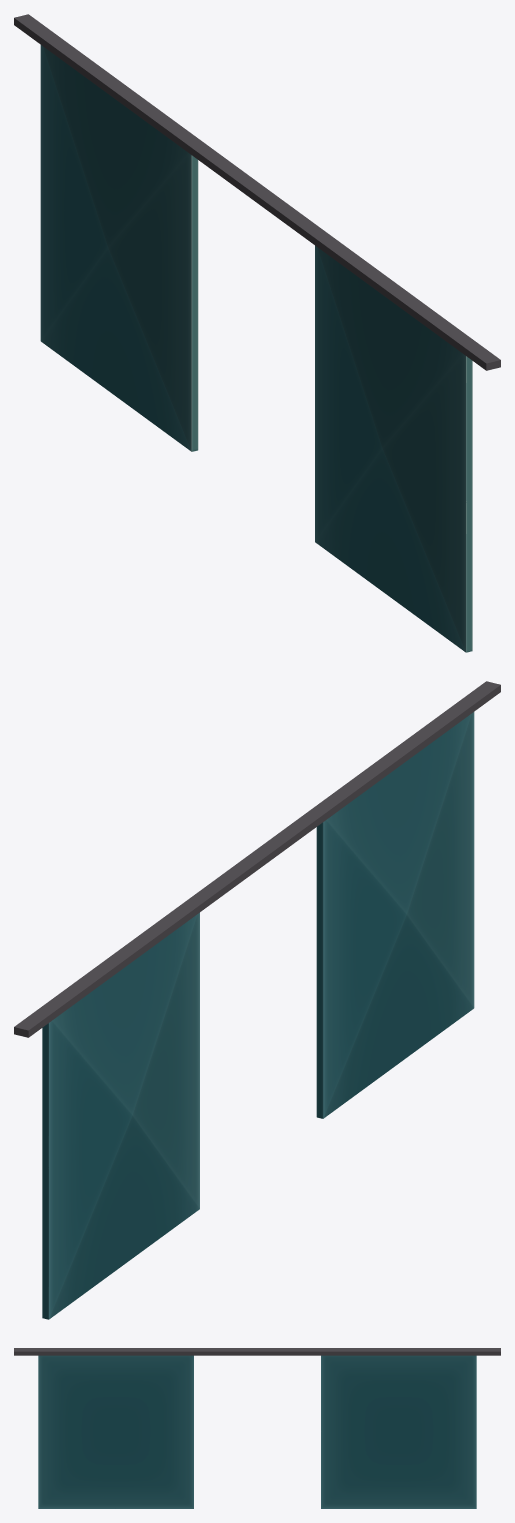
The model's file is Nortica Door Open.fbx.
3 views of the same model, one above another, from view 1: azimuth 30°, elevation 25°; view 2: azimuth 150°, elevation 25°; view 3: azimuth 270°, elevation 25° (orthographic). The views are drawn at different scales.
Parts seen in each view (by area): view 1: Nortica Door Open; view 2: Nortica Door Open; view 3: Nortica Door Open.
Part boxes in pixels (x1,y1,x2,y2): Nortica Door Open: (14,14,500,652); Nortica Door Open: (14,681,500,1319); Nortica Door Open: (14,1348,500,1508).
Bounding box in the file's own units: 27.9 × 420 × 1171.
Materials: 2 (1 with a texture image).
